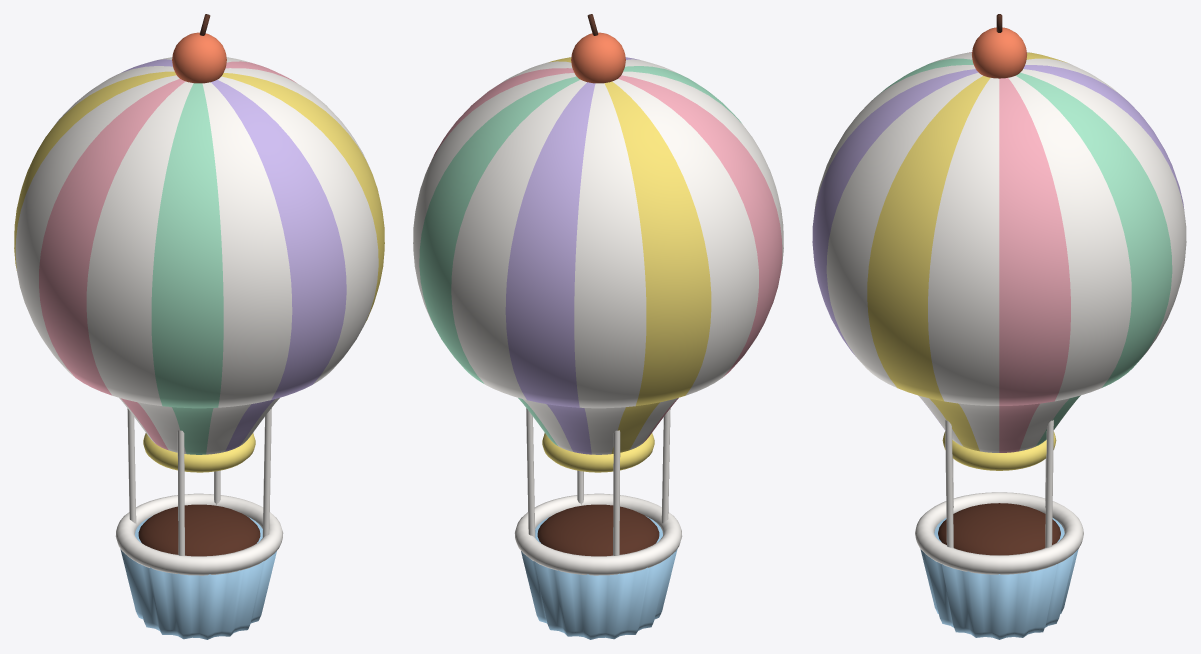
The model's file is hot_air_balloon.glb.
3 views of the same model, side by side, from view 1: azimuth 30°, elevation 25°; view 2: azimuth 150°, elevation 25°; view 3: azimuth 270°, elevation 25° (orthographic).
Parts seen in each view (by area): view 1: hot_air_balloon; view 2: hot_air_balloon; view 3: hot_air_balloon.
Boxes of the visible parts, <box> form: hot_air_balloon: <box>14,14,384,639</box>; hot_air_balloon: <box>413,14,783,639</box>; hot_air_balloon: <box>812,14,1186,639</box>.
Bounding box in the file's own units: 2.7 × 4.8 × 2.7.
